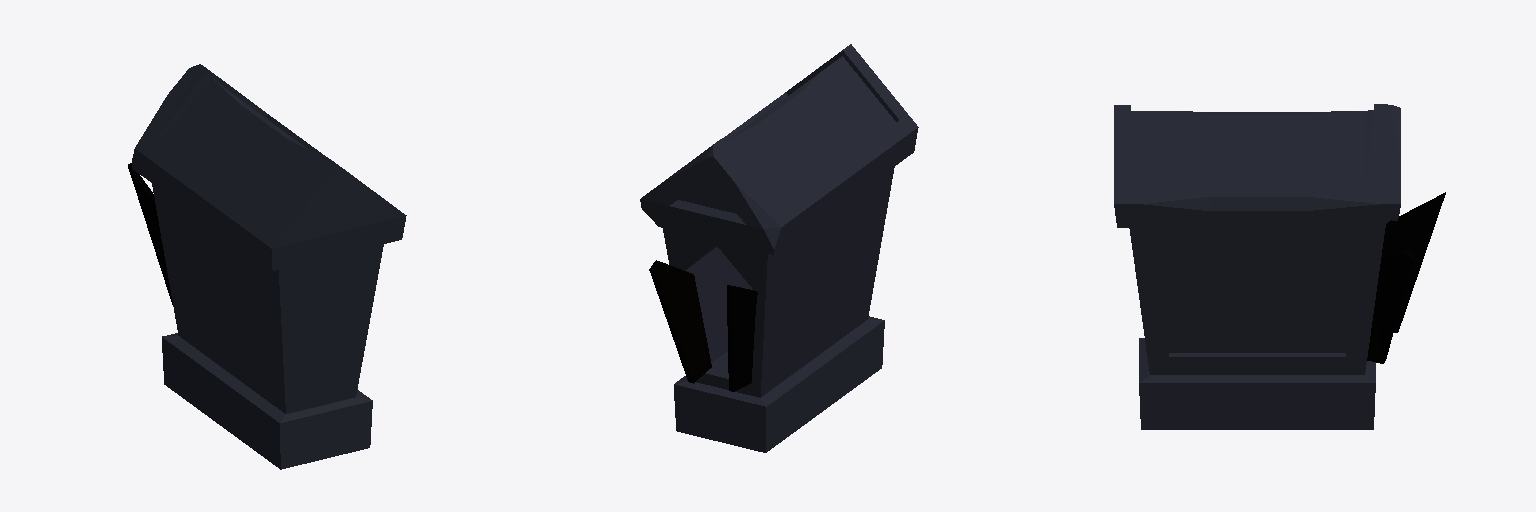
The model's file is Manor2.obj.
The picture shows the model from 3 angles: view 1: azimuth 30°, elevation 25°; view 2: azimuth 150°, elevation 25°; view 3: azimuth 270°, elevation 25°; orthographic projection.
Parts seen in each view (by area): view 1: Buidling; view 2: Buidling; view 3: Buidling.
Part boxes in pixels (bbox=[...]): Buidling: bbox=[128, 64, 406, 469]; Buidling: bbox=[640, 44, 918, 452]; Buidling: bbox=[1114, 104, 1445, 429].
Bounding box in the file's own units: 2.9 × 6.24 × 6.18.